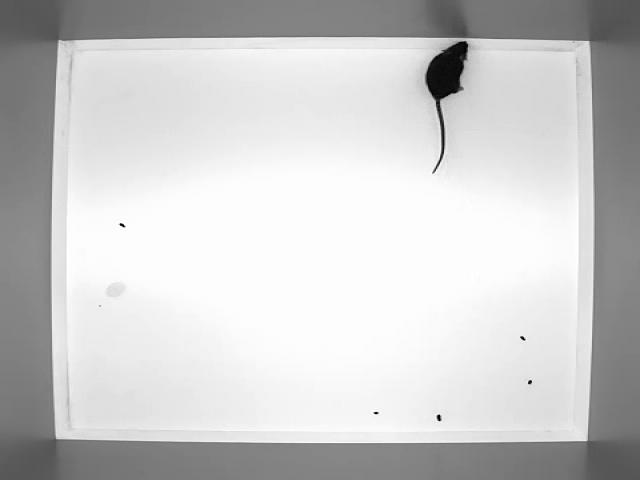Tikus: (427, 41, 470, 173)
